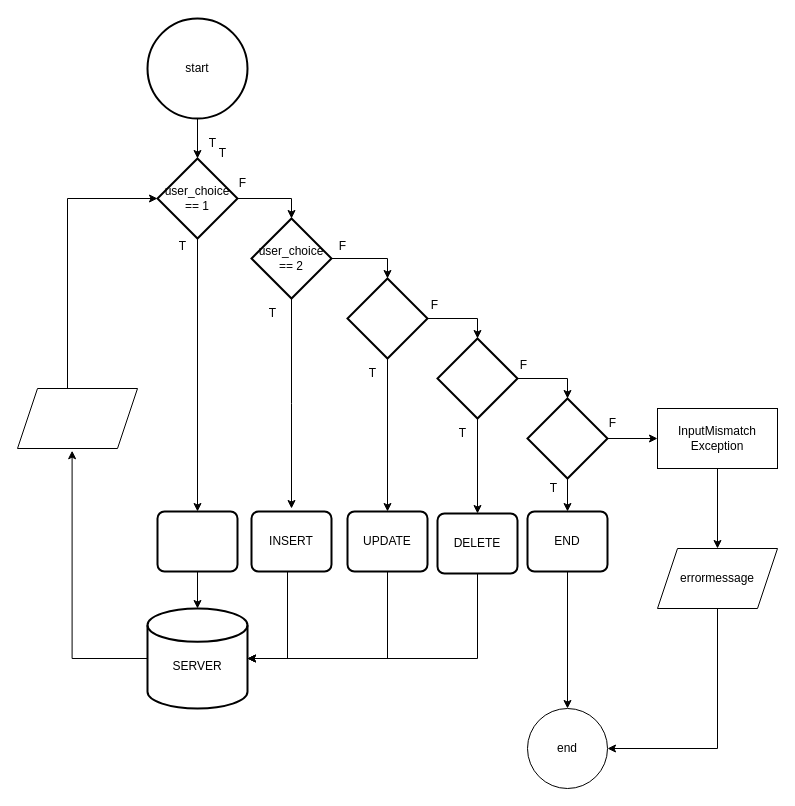
This 795x806 diagram has some shape labels left out. The shapes that lost their labels are listed below. From the top down, each one's centre as x and y in pixels, then its label:
At point 387,318: "user_choice == 3".
At point 477,378: "user_choice == 4".
At point 77,418: "user_choice".
At point 567,438: "user_choice == 5".
At point 197,541: "SELECT".
